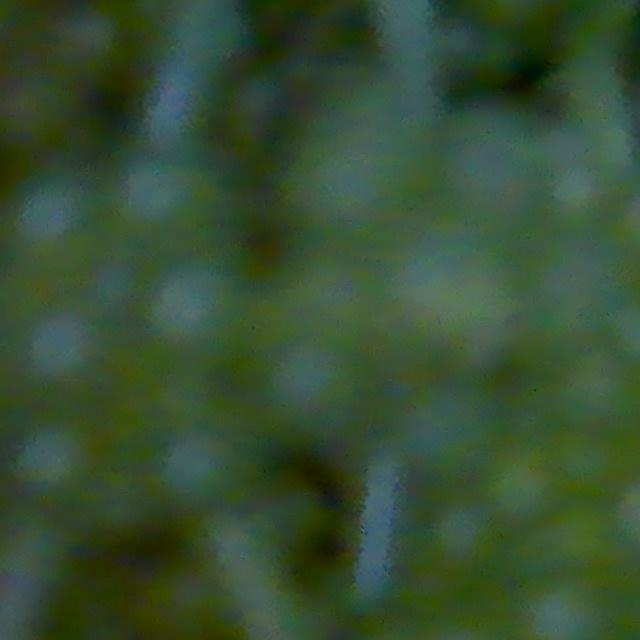SeaGrape: (253, 344, 376, 448), (143, 255, 244, 371), (17, 309, 106, 398), (116, 153, 208, 238), (481, 438, 565, 526), (554, 351, 640, 435), (522, 574, 626, 640), (537, 502, 617, 581), (12, 173, 92, 249), (17, 416, 94, 494), (158, 431, 233, 506), (422, 508, 505, 575), (52, 5, 124, 77), (552, 427, 623, 496)
